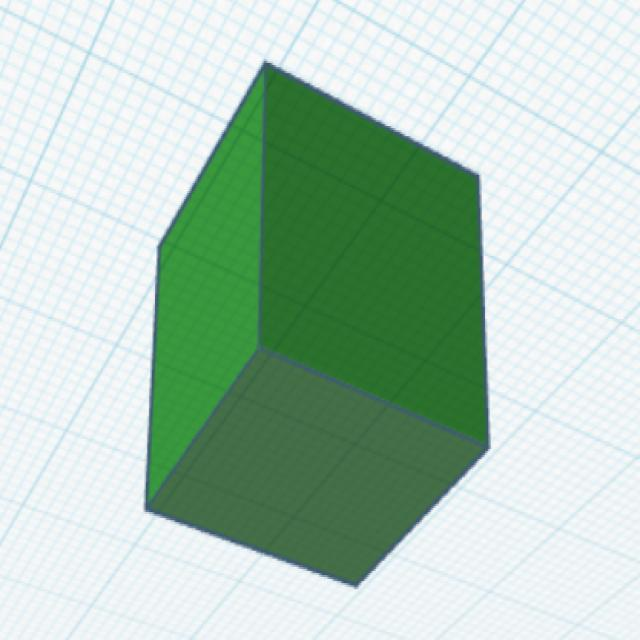cube: (142, 57, 494, 593)
